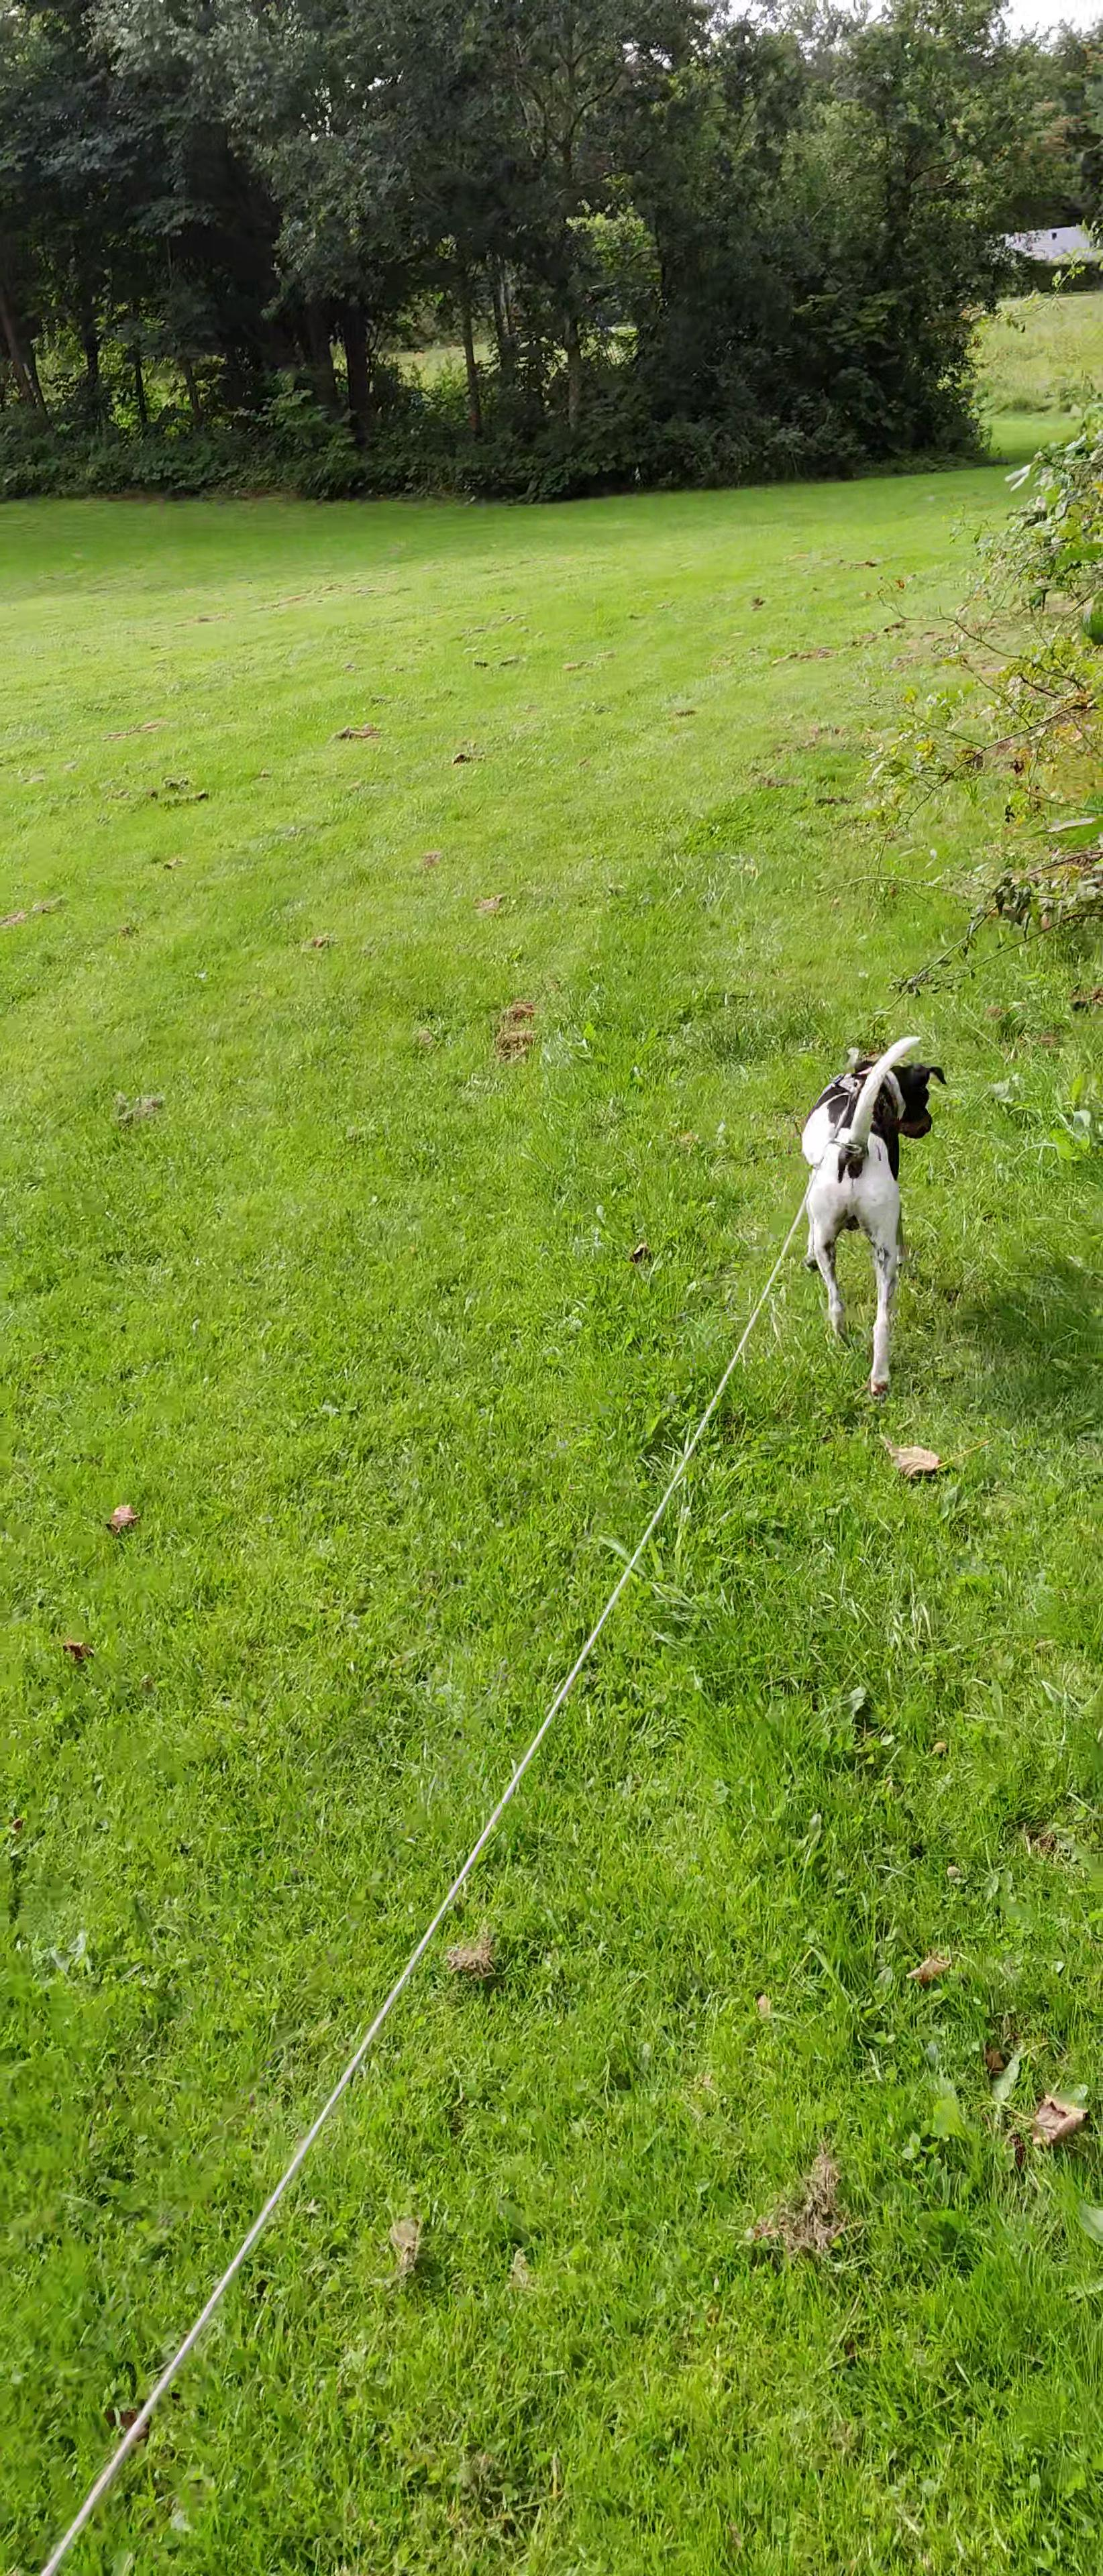Dog: (787, 1019, 958, 1411)
